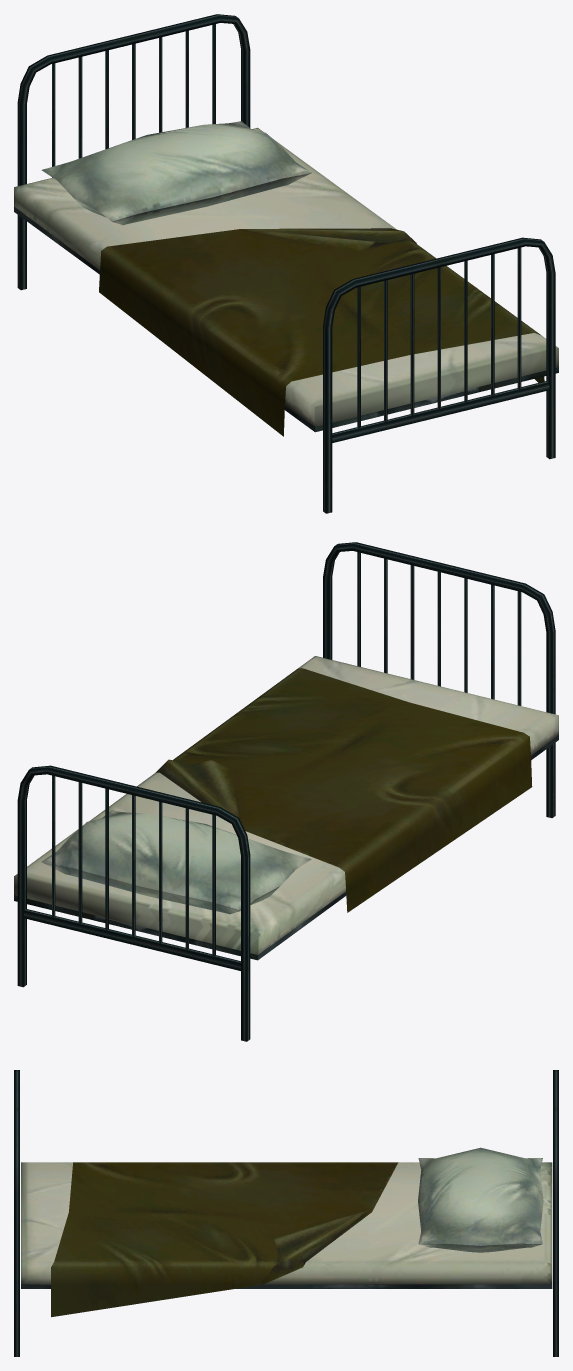
File: machine_prison_cot.fbx
The picture shows the model from 3 angles, top to bottom: view 1: azimuth 30°, elevation 25°; view 2: azimuth 150°, elevation 25°; view 3: azimuth 270°, elevation 25°; orthographic projection. The views are drawn at different scales.
Visible parts, largest first — view 1: mesh_0; view 2: mesh_0; view 3: mesh_0.
Part boxes in pixels (bbox=[...]): mesh_0: bbox=[14, 14, 558, 513]; mesh_0: bbox=[14, 542, 558, 1041]; mesh_0: bbox=[14, 1070, 558, 1356].
Size of the model in its own units: 93.29 by 80.41 by 200.
1 material, 1 textured.
